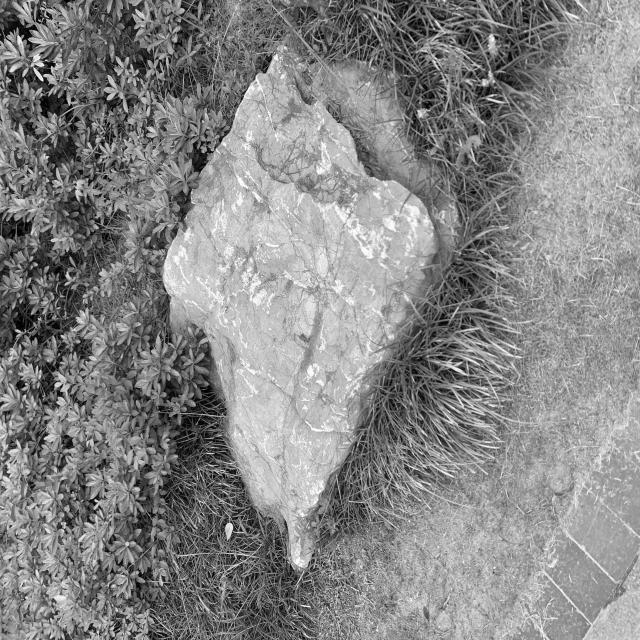Stone: (164, 42, 458, 570)
